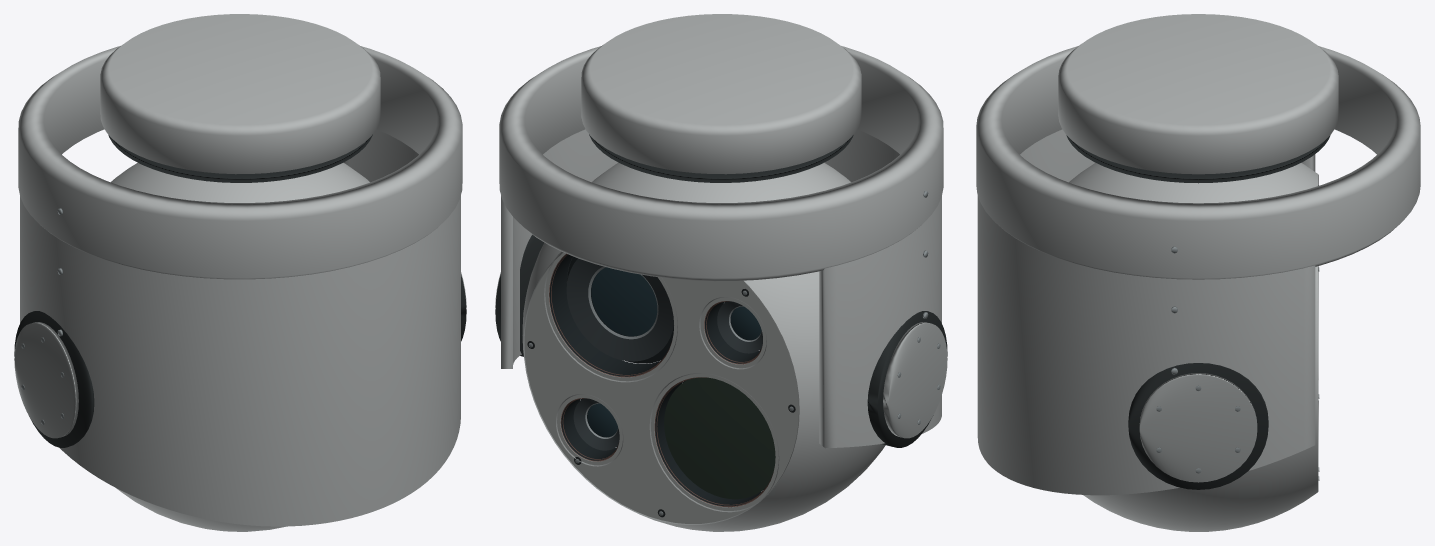
3 renders of one model, left to right at view 1: azimuth 30°, elevation 25°; view 2: azimuth 150°, elevation 25°; view 3: azimuth 270°, elevation 25°, orthographic.
Visible parts, largest first — view 1: eoir_OPEN_FRONT_YOKE, eoir_YAW_TOP_BAND, eoir_FIXED_ATTACHMENT_CAP, eoir_ROUNDED_OPTICAL_HOUSING, eoir_LEFT_PITCH_CAP, eoir_LEFT_TRUNNION_GASKET, eoir_AZIMUTH_BEARING_SEAM; view 2: eoir_YAW_TOP_BAND, eoir_FIXED_ATTACHMENT_CAP, eoir_APERTURED_OPTICAL_FACE, eoir_OPEN_FRONT_YOKE, eoir_ROUNDED_OPTICAL_HOUSING, eoir_LARGE_LOWER_DARK_WINDOW, eoir_LEFT_PITCH_CAP, eoir_LARGE_UPPER_OPTICAL_BARREL, eoir_LARGE_UPPER_OPTICS, eoir_LARGE_UPPER_RECESSED_WALL, eoir_LEFT_TRUNNION_GASKET, eoir_AZIMUTH_BEARING_SEAM (+13 smaller); view 3: eoir_OPEN_FRONT_YOKE, eoir_YAW_TOP_BAND, eoir_FIXED_ATTACHMENT_CAP, eoir_ROUNDED_OPTICAL_HOUSING, eoir_RIGHT_PITCH_CAP, eoir_RIGHT_TRUNNION_GASKET, eoir_AZIMUTH_BEARING_SEAM.
Part boxes in pixels (bbox=[...]): eoir_OPEN_FRONT_YOKE: bbox=[20, 129, 460, 526]; eoir_YAW_TOP_BAND: bbox=[18, 46, 462, 279]; eoir_FIXED_ATTACHMENT_CAP: bbox=[100, 14, 380, 174]; eoir_ROUNDED_OPTICAL_HOUSING: bbox=[111, 162, 369, 531]; eoir_LEFT_PITCH_CAP: bbox=[14, 322, 78, 438]; eoir_LEFT_TRUNNION_GASKET: bbox=[14, 311, 94, 447]; eoir_AZIMUTH_BEARING_SEAM: bbox=[108, 134, 372, 182]; eoir_YAW_TOP_BAND: bbox=[499, 46, 943, 281]; eoir_FIXED_ATTACHMENT_CAP: bbox=[581, 14, 861, 174]; eoir_APERTURED_OPTICAL_FACE: bbox=[524, 252, 799, 523]; eoir_OPEN_FRONT_YOKE: bbox=[501, 129, 941, 448]; eoir_ROUNDED_OPTICAL_HOUSING: bbox=[522, 162, 885, 531]; eoir_LARGE_LOWER_DARK_WINDOW: bbox=[664, 377, 775, 499]; eoir_LEFT_PITCH_CAP: bbox=[883, 322, 947, 438]; eoir_LARGE_UPPER_OPTICAL_BARREL: bbox=[566, 258, 673, 361]; eoir_LARGE_UPPER_OPTICS: bbox=[591, 267, 657, 336]; eoir_LARGE_UPPER_RECESSED_WALL: bbox=[549, 254, 660, 376]; eoir_LEFT_TRUNNION_GASKET: bbox=[867, 311, 947, 447]; eoir_AZIMUTH_BEARING_SEAM: bbox=[589, 134, 853, 182]; eoir_OPEN_FRONT_YOKE: bbox=[977, 129, 1315, 495]; eoir_YAW_TOP_BAND: bbox=[976, 46, 1420, 279]; eoir_FIXED_ATTACHMENT_CAP: bbox=[1058, 14, 1338, 174]; eoir_ROUNDED_OPTICAL_HOUSING: bbox=[1069, 163, 1317, 531]; eoir_RIGHT_PITCH_CAP: bbox=[1139, 373, 1257, 482]; eoir_RIGHT_TRUNNION_GASKET: bbox=[1128, 363, 1268, 489]; eoir_AZIMUTH_BEARING_SEAM: bbox=[1066, 135, 1330, 183].
Bounding box in the file's own units: 0.574 × 0.6148 × 0.558.
